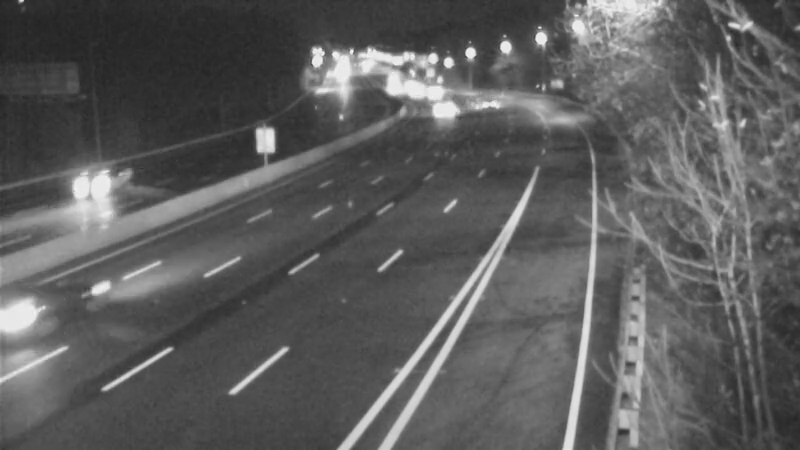vehicle: (1, 260, 94, 370), (51, 146, 131, 226), (455, 73, 505, 123), (423, 83, 473, 133)
